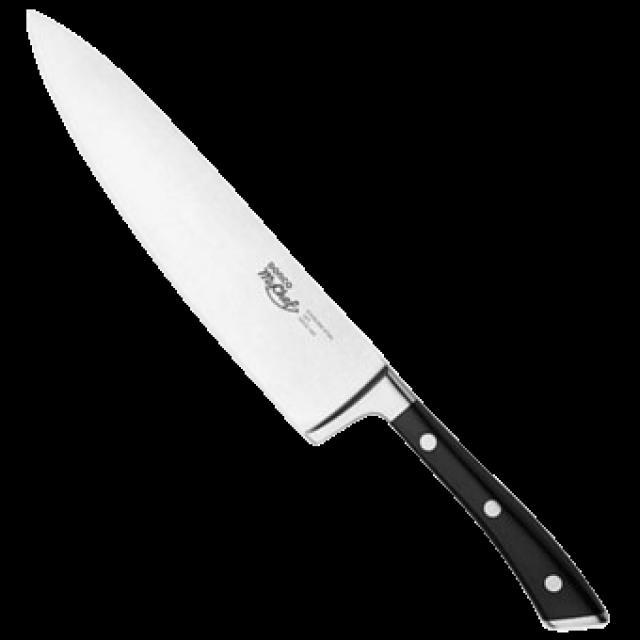knife: (30, 6, 613, 634)
